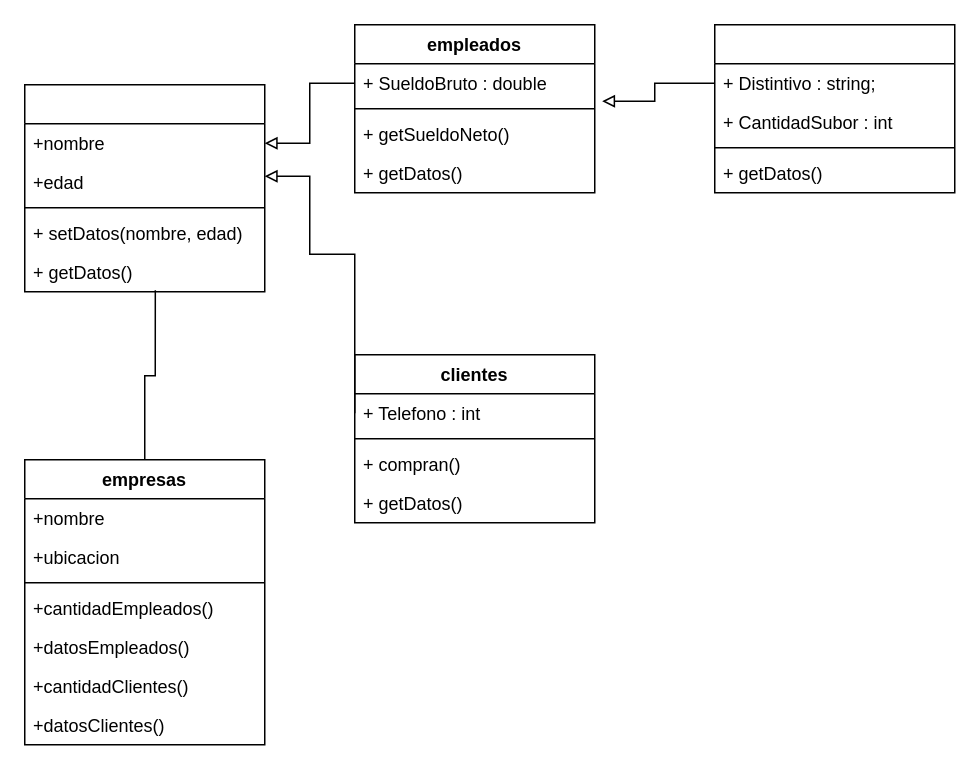
Some shapes in this 980 by 770 pixel diagram are drawn without their labels. The box of each missing label's shape, as (x1, y1, x2, y2) in pixels:
Directivo: (713, 23, 955, 193)
personas: (23, 83, 265, 292)
